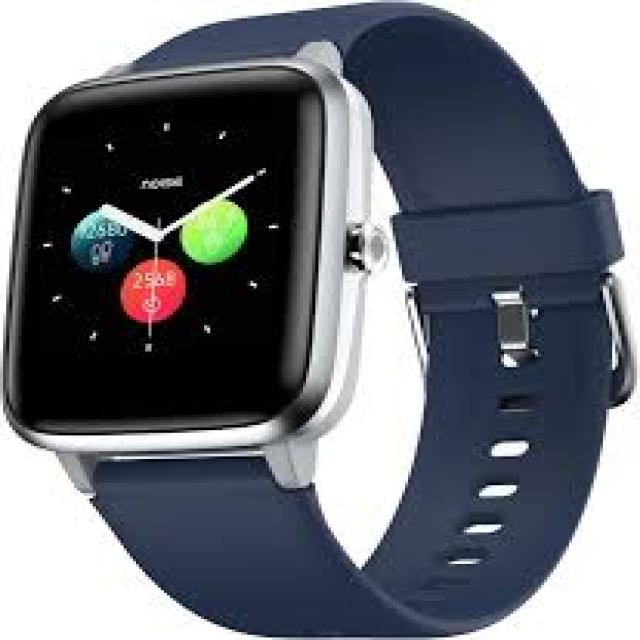objects: (80, 3, 628, 635), (3, 60, 380, 456)
